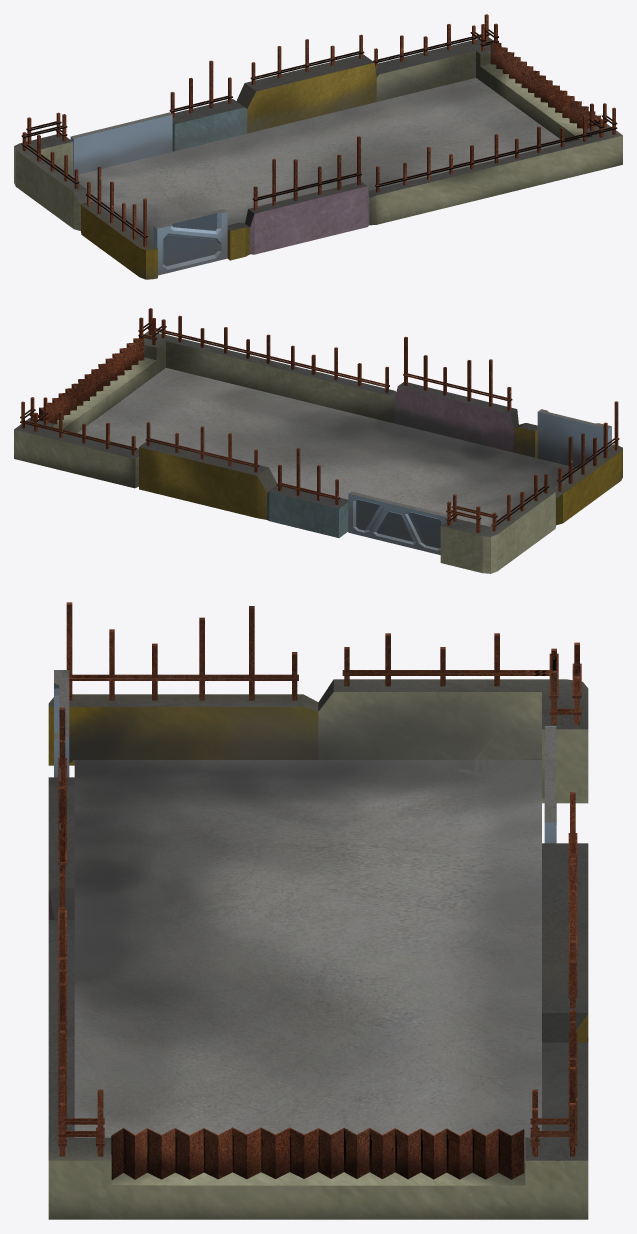
The model's file is Foundations_20x10x10_24_6_2016.fbx.
3 renders of one model, top to bottom at view 1: azimuth 30°, elevation 25°; view 2: azimuth 150°, elevation 25°; view 3: azimuth 270°, elevation 25°, orthographic. The views are drawn at different scales.
Parts seen in each view (by area): view 1: Foundations_20x10x10; view 2: Foundations_20x10x10; view 3: Foundations_20x10x10.
Part boxes in pixels (box(x1,y1,x2,y2)): Foundations_20x10x10: box(14, 14, 622, 279); Foundations_20x10x10: box(14, 308, 622, 573); Foundations_20x10x10: box(48, 602, 588, 1219).
Size of the model in its own units: 2032 by 361 by 993.
